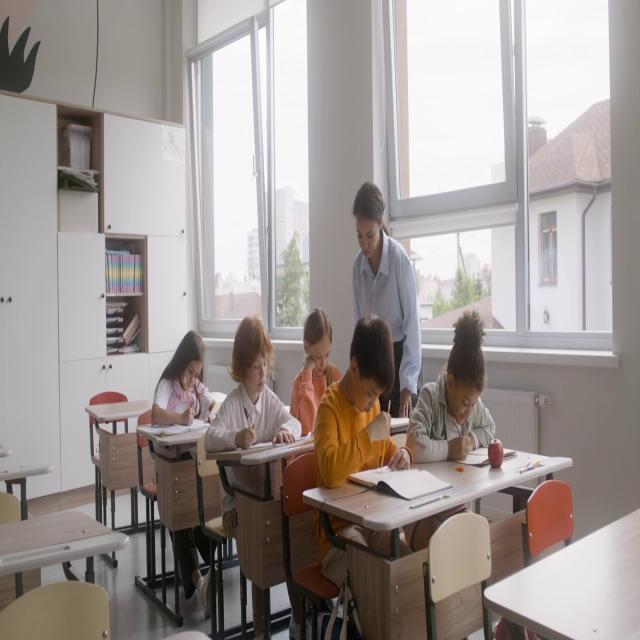reading: (294, 309, 342, 454)
turning: (407, 310, 495, 466)
writing: (308, 316, 418, 640), (205, 317, 301, 490), (152, 329, 219, 456)
